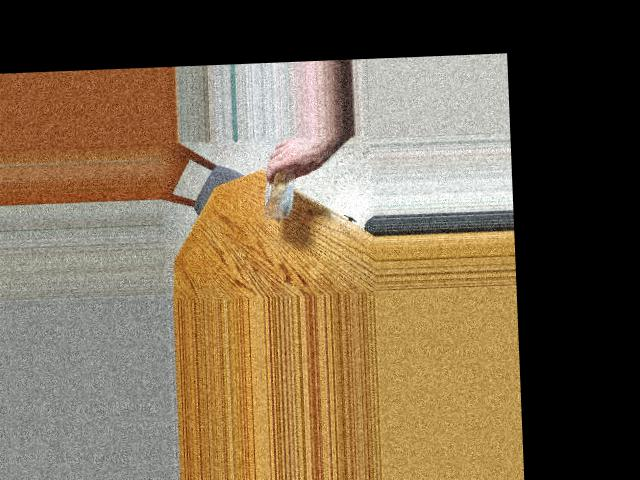cheese: (249, 151, 321, 221)
